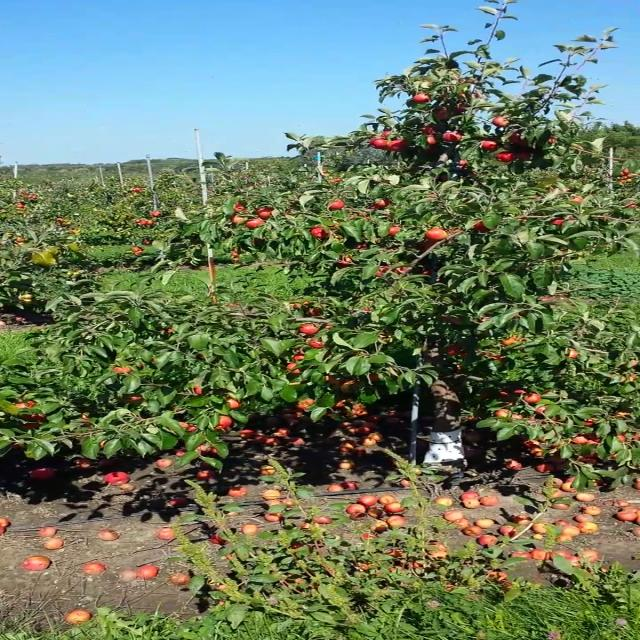apple: (21, 414, 48, 430), (501, 334, 530, 346), (448, 344, 469, 357), (426, 228, 447, 240), (215, 416, 232, 429), (337, 256, 355, 268), (233, 202, 250, 214), (301, 323, 319, 334), (572, 433, 590, 444), (342, 381, 358, 393), (524, 393, 542, 403), (443, 132, 461, 142), (246, 218, 264, 228), (424, 240, 439, 252), (298, 398, 314, 409), (497, 152, 514, 162), (481, 141, 498, 151), (388, 139, 402, 151), (258, 208, 272, 220), (310, 228, 326, 238), (326, 376, 346, 384), (474, 223, 492, 231), (437, 107, 449, 119), (293, 302, 311, 310), (372, 139, 386, 149), (492, 354, 506, 364), (622, 373, 636, 383), (494, 117, 509, 126), (531, 447, 544, 457), (414, 94, 430, 102), (15, 402, 36, 408), (510, 132, 520, 144), (82, 414, 92, 426), (588, 432, 600, 442), (287, 364, 300, 373), (331, 200, 344, 209), (234, 215, 248, 223), (393, 266, 407, 274), (292, 353, 306, 361), (378, 198, 389, 208), (585, 439, 603, 445), (177, 422, 190, 430), (113, 367, 130, 373), (366, 203, 380, 210), (310, 339, 322, 347), (388, 227, 400, 235), (227, 399, 238, 407), (496, 410, 508, 417), (127, 396, 143, 401), (377, 268, 387, 276), (188, 425, 198, 433), (421, 268, 434, 274), (568, 350, 577, 358), (193, 386, 201, 394), (521, 152, 530, 159), (312, 308, 322, 314), (585, 419, 595, 425), (553, 221, 563, 227), (426, 126, 433, 134), (512, 414, 524, 418), (538, 406, 546, 412), (617, 436, 625, 442), (548, 138, 556, 144), (428, 136, 434, 144), (383, 131, 391, 137), (457, 106, 466, 111), (100, 439, 106, 446), (515, 390, 525, 394), (572, 197, 582, 201), (371, 375, 377, 381), (358, 244, 367, 248), (460, 159, 466, 165), (166, 328, 172, 332), (324, 326, 334, 328), (501, 391, 506, 395), (364, 308, 370, 311)
